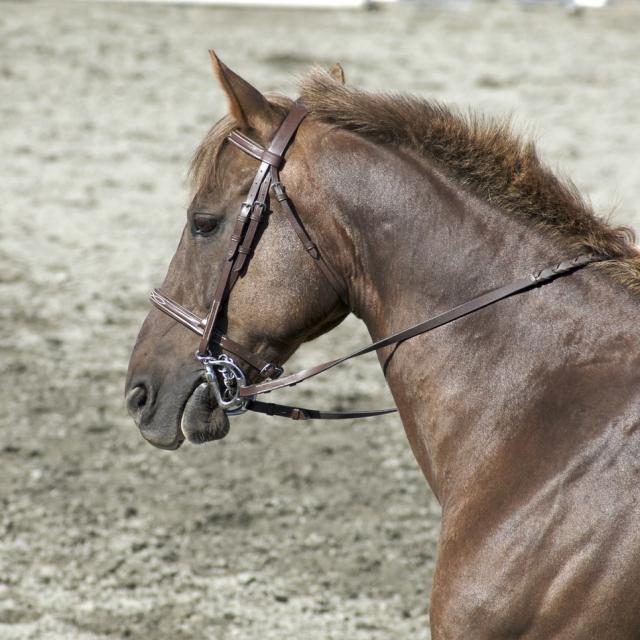Horse: (122, 51, 639, 640)
